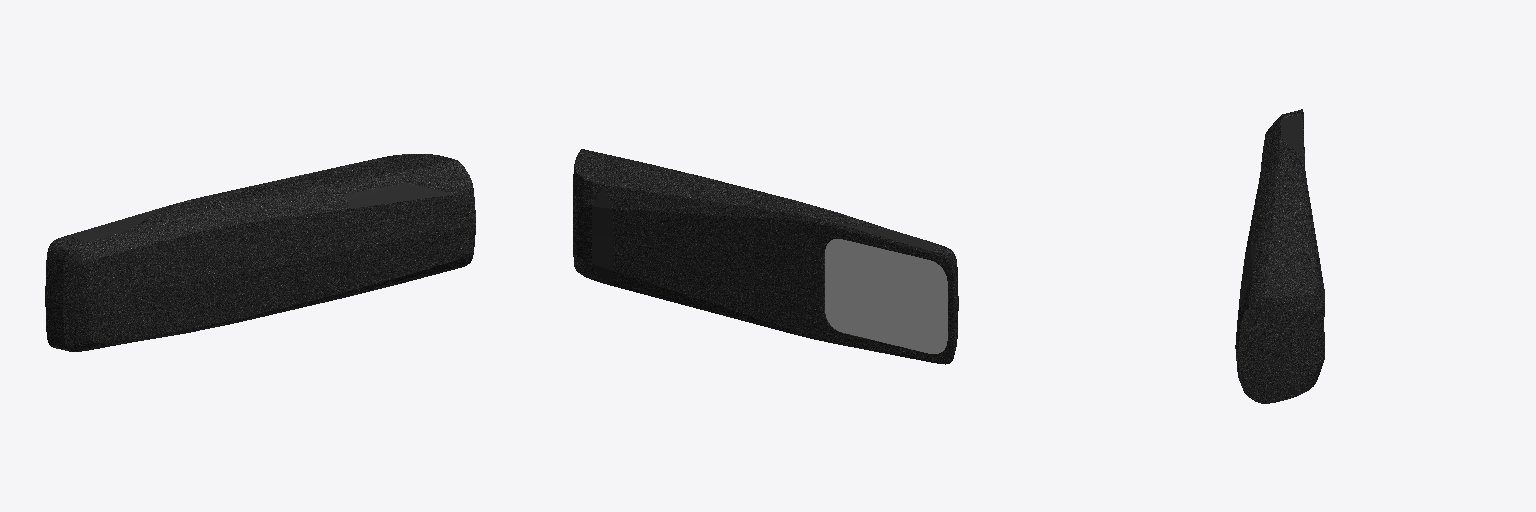
3 views of the same model, side by side, from view 1: azimuth 30°, elevation 25°; view 2: azimuth 150°, elevation 25°; view 3: azimuth 270°, elevation 25° (orthographic).
Parts seen in each view (by area): view 1: Siteco_SL_11_micro; view 2: Siteco_SL_11_micro, Siteco_SL_11_micro_Glas; view 3: Siteco_SL_11_micro.
Part boxes in pixels (left/top/right/bottom): Siteco_SL_11_micro: left=45, top=154, right=475, bottom=351; Siteco_SL_11_micro: left=573, top=149, right=958, bottom=364; Siteco_SL_11_micro_Glas: left=825, top=239, right=947, bottom=353; Siteco_SL_11_micro: left=1235, top=109, right=1324, bottom=403.
Size of the model in its own units: 0.5974 by 0.1744 by 0.1159.
Materials: 3 (1 with a texture image).